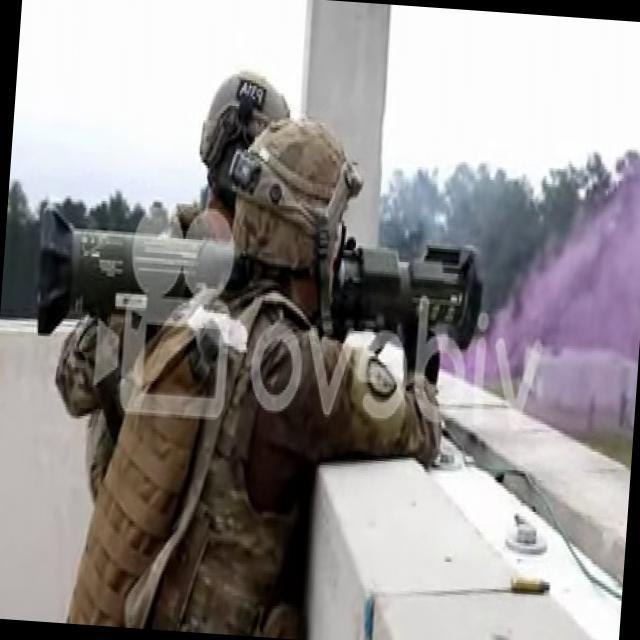rocket: (36, 203, 484, 361)
